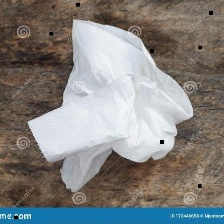tissue: (23, 13, 198, 195)
